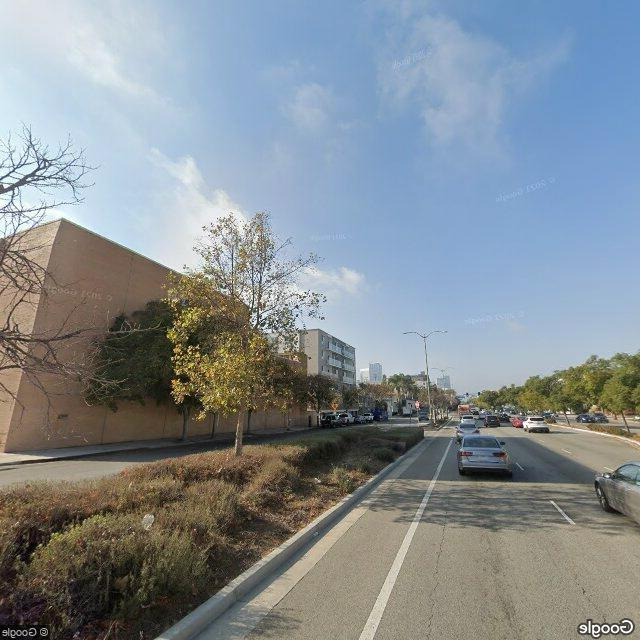crack: (424, 507, 454, 639), (573, 573, 611, 621)
